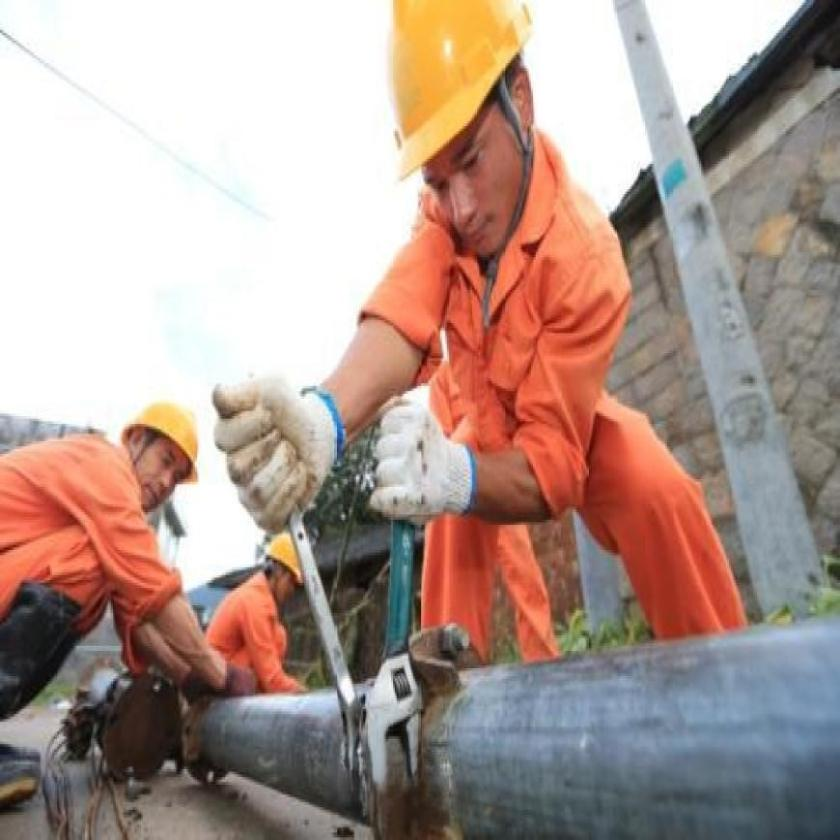Con_casco: (379, 0, 549, 267), (120, 400, 206, 520), (265, 532, 309, 616)
